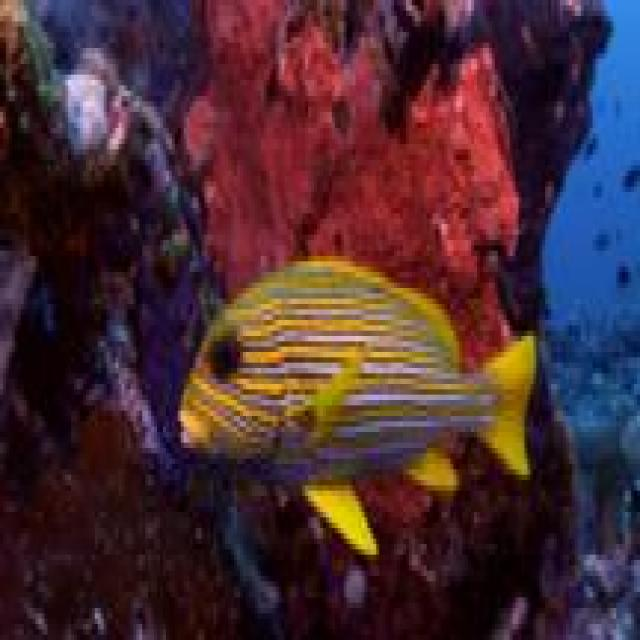RibbonedSweetlips: (175, 257, 540, 557)
